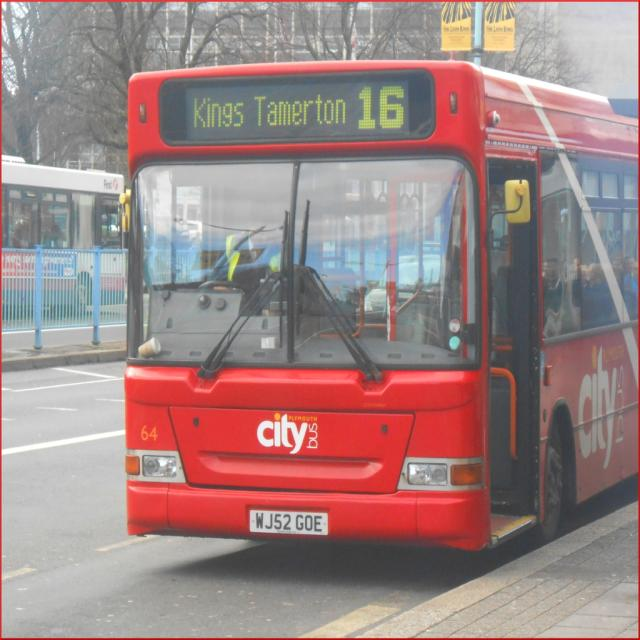Buses: (127, 68, 640, 552)
